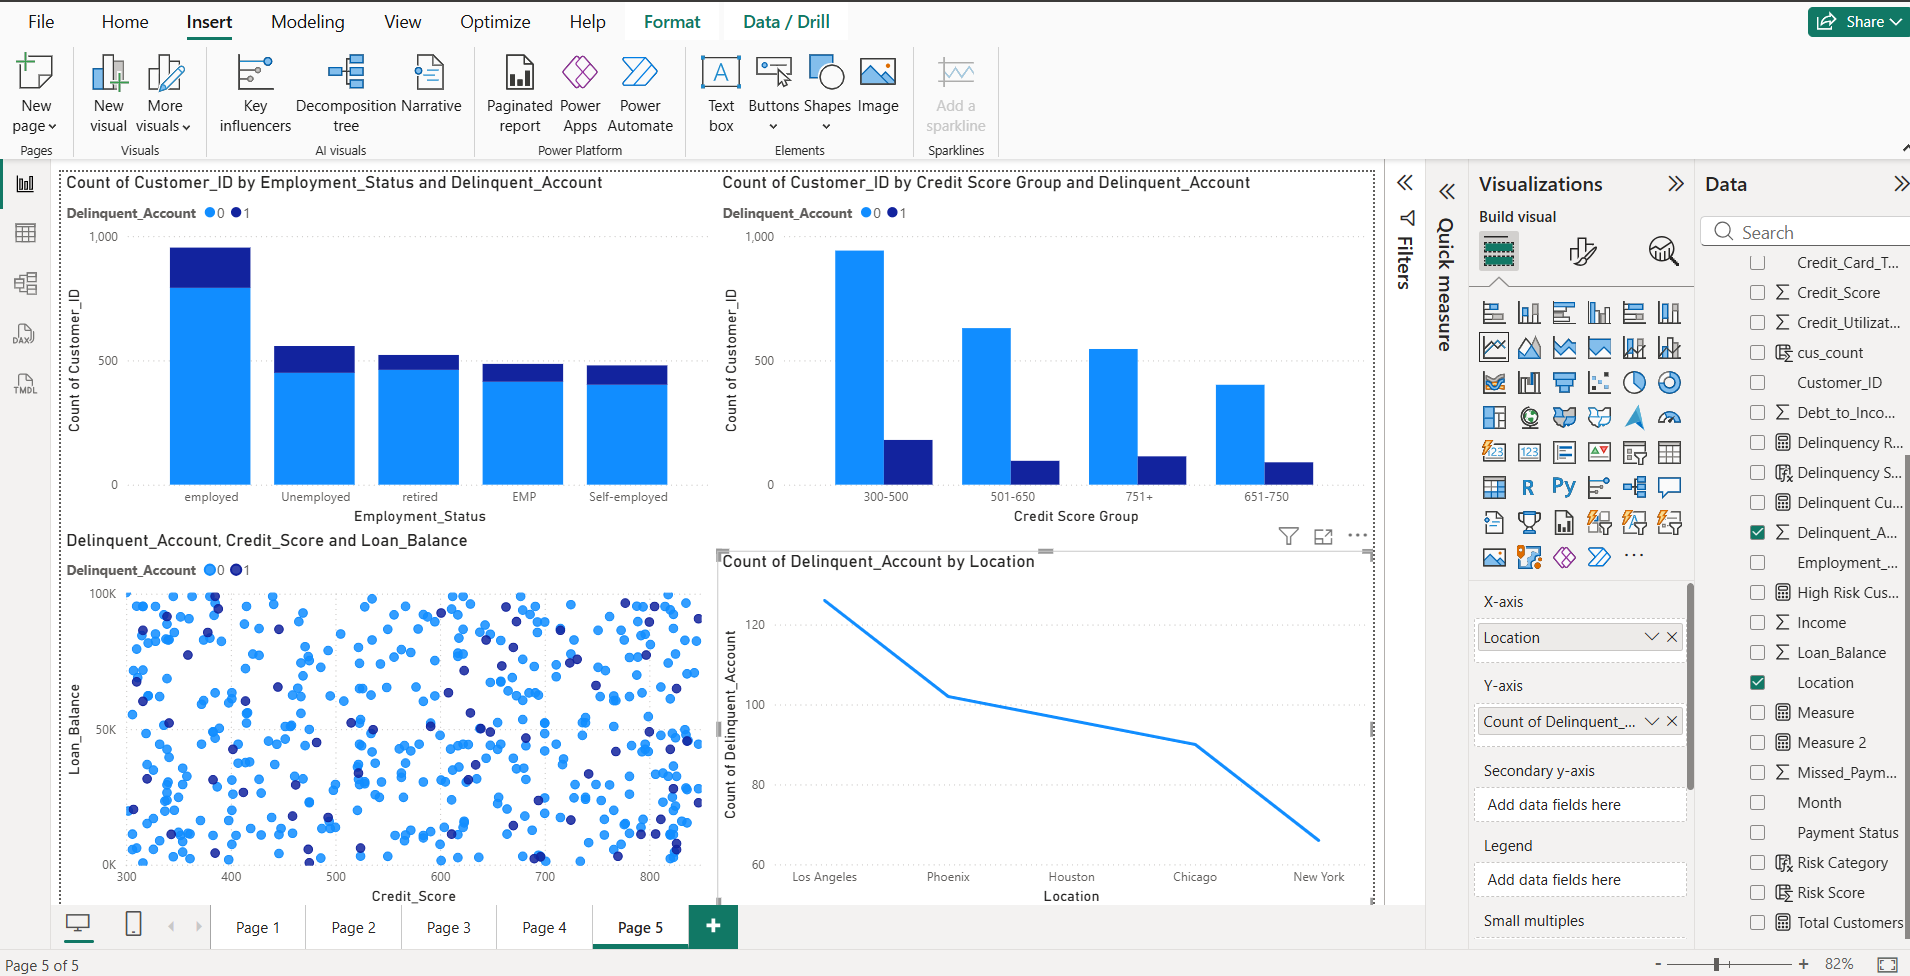

The page's visual inventory and layout, read from the dashboard file:
{"tool":"powerbi","page":{"name":"Page 5","canvas":[1280,720],"ordinal":4},"visuals":[{"type":"FlowVisual_C29F1DCC_81F5_4973_94AD_0517D44CC06A","box":[10,0,280,280],"z":0},{"type":"columnChart","fields":{"Category":["Delinquency_prediction_dataset.Employment_Status"],"Y":["CountNonNull(Delinquency_prediction_dataset.Customer_ID)"],"Series":["Delinquency_prediction_dataset.Delinquent_Account"]},"box":[0,0,640.2,348.8],"z":1000},{"type":"clusteredColumnChart","fields":{"Category":["Delinquency_prediction_dataset.Credit Score Group"],"Y":["CountNonNull(Delinquency_prediction_dataset.Customer_ID)"],"Series":["Delinquency_prediction_dataset.Delinquent_Account"]},"box":[640.2,0,640.2,348.8],"z":2000},{"type":"scatterChart","fields":{"X":["Delinquency_prediction_dataset.Credit_Score"],"Y":["Delinquency_prediction_dataset.Loan_Balance"],"Series":["Delinquency_prediction_dataset.Delinquent_Account"]},"box":[0,348.8,640.2,370.7],"z":3000},{"type":"lineChart","fields":{"Category":["Delinquency_prediction_dataset.Location"],"Y":["CountNonNull(Delinquency_prediction_dataset.Delinquent_Account)"]},"box":[640.2,369.5,640.2,350],"z":4000}]}

Visuals, with their boxes on the page's 1280x720 design canvas (x1, y1, x2, y2). These are canvas units, not pixel positions in the 1910x976 screenshot, which may show the page scaled, cropped or inside an application window:
FlowVisual_C29F1DCC_81F5_4973_94AD_0517D44CC06A: bbox=(10, 0, 290, 280)
columnChart - Delinquency_prediction_dataset.Employment_Status x CountNonNull(Delinquency_prediction_dataset.Customer_ID): bbox=(0, 0, 640, 349)
clusteredColumnChart - Delinquency_prediction_dataset.Credit Score Group x CountNonNull(Delinquency_prediction_dataset.Customer_ID): bbox=(640, 0, 1280, 349)
scatterChart - Delinquency_prediction_dataset.Credit_Score x Delinquency_prediction_dataset.Loan_Balance: bbox=(0, 349, 640, 720)
lineChart - Delinquency_prediction_dataset.Location x CountNonNull(Delinquency_prediction_dataset.Delinquent_Account): bbox=(640, 370, 1280, 720)
